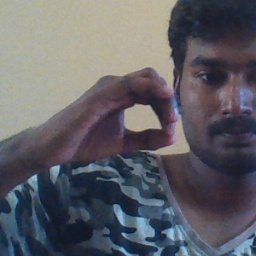O: (45, 63, 180, 173)
